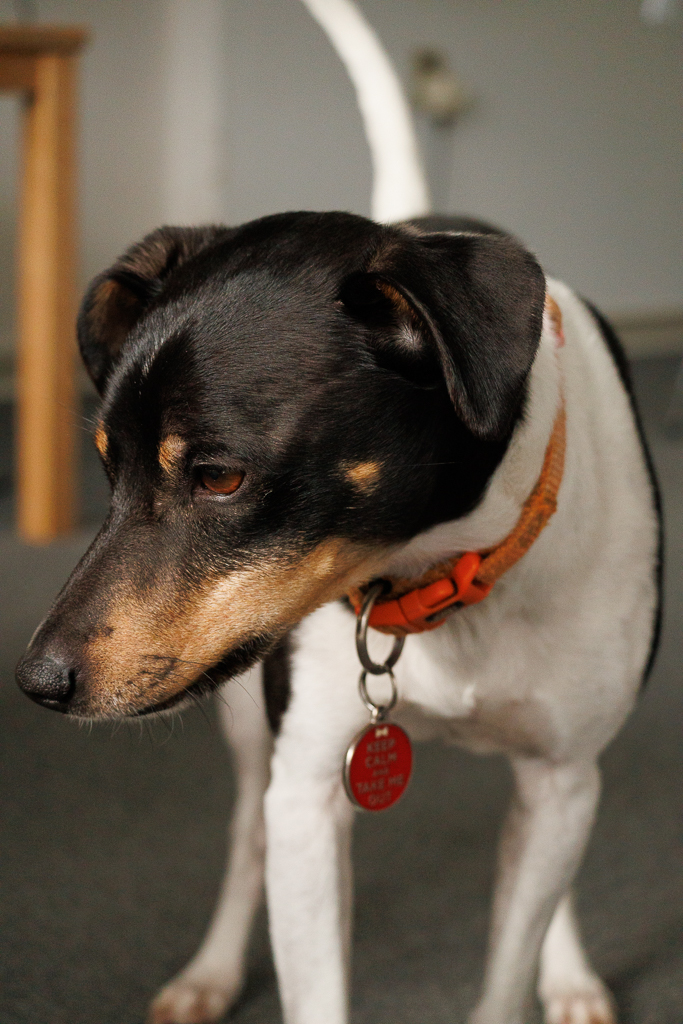Dog: (11, 0, 676, 1024)
